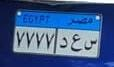7: (45, 32, 56, 49), (15, 31, 26, 47), (25, 31, 35, 48), (35, 32, 45, 47)
ain: (70, 33, 81, 52)
daal: (60, 37, 69, 48)
seen: (84, 37, 98, 49)
